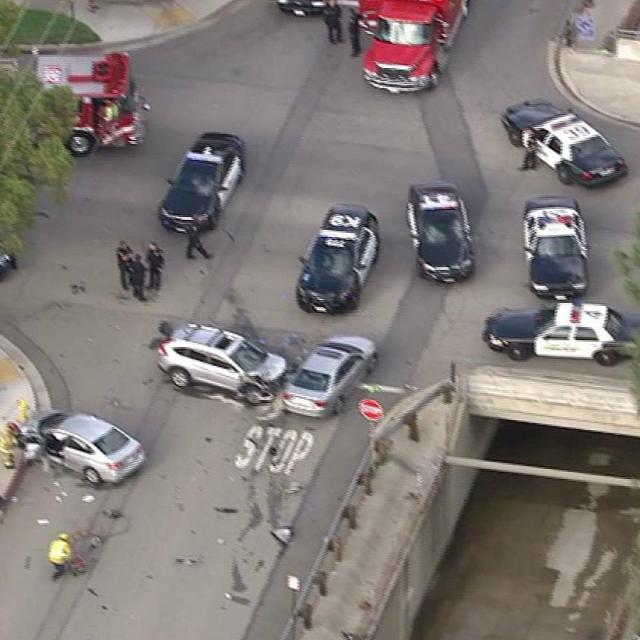traffic_incident: (142, 319, 382, 433), (12, 396, 150, 488)
